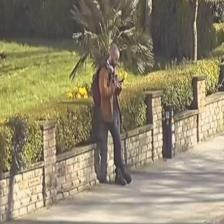person: (98, 43, 132, 185)
